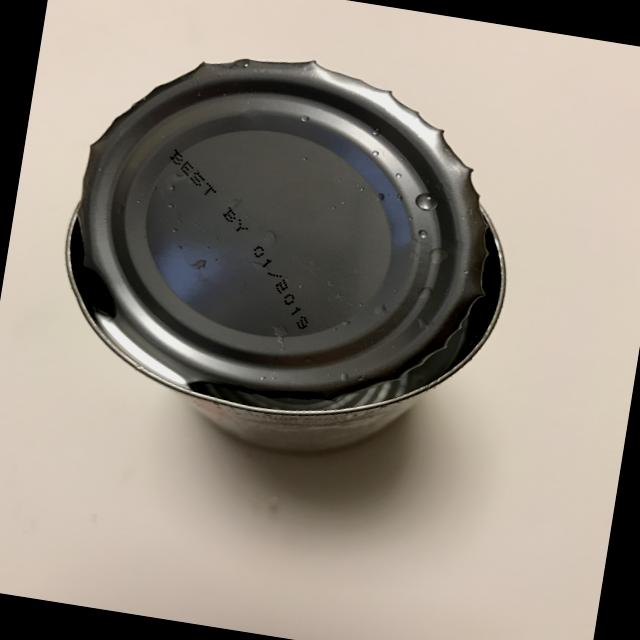Metal: (9, 15, 554, 502)
